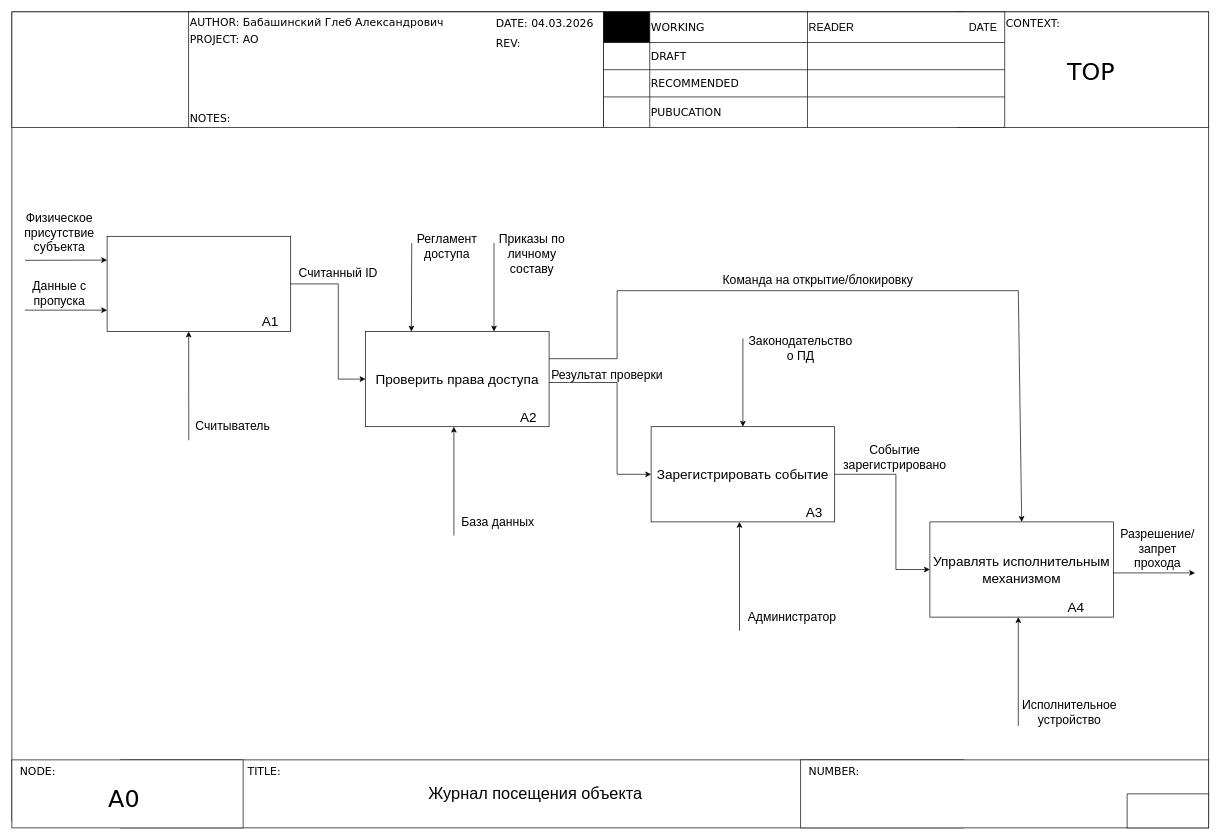
The diagram is 1221 pixels wide and 840 high, and some of its shapes have lost their labels. The shapes that lost their labels are listed below. From the top down, each one's box as (x1, y1, x2, y2) in pixels, then its label:
(11, 11, 196, 128): USET AT:
(106, 236, 291, 332): Идентифицировать субъекта доступа
